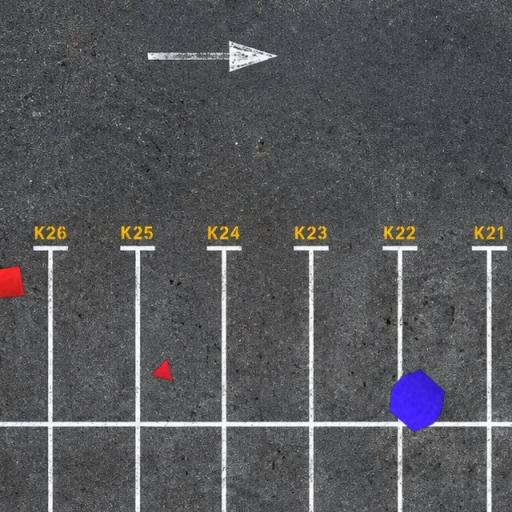RED_SQUARE: (0, 266, 26, 299)
